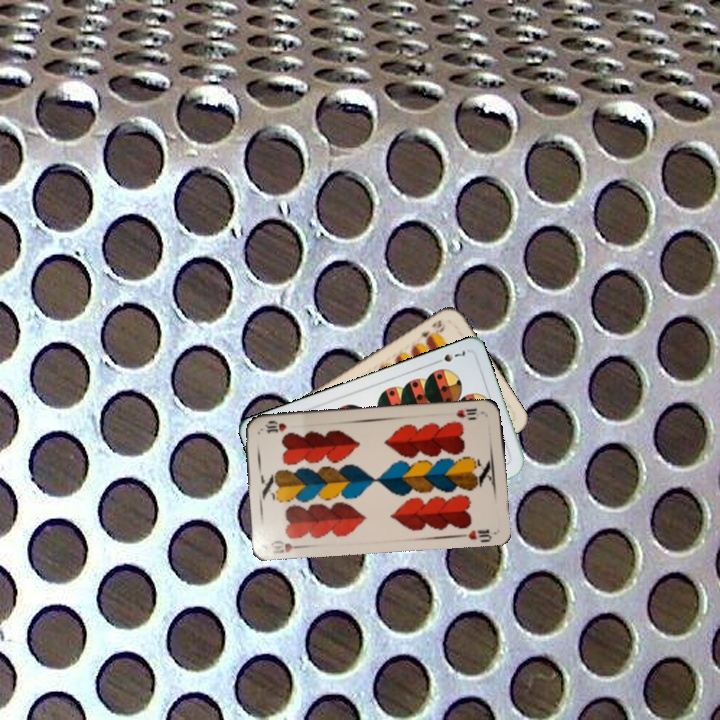E10: (413, 316, 448, 343)
H10: (267, 536, 307, 556), (452, 404, 487, 421)
S7: (430, 347, 468, 367)
